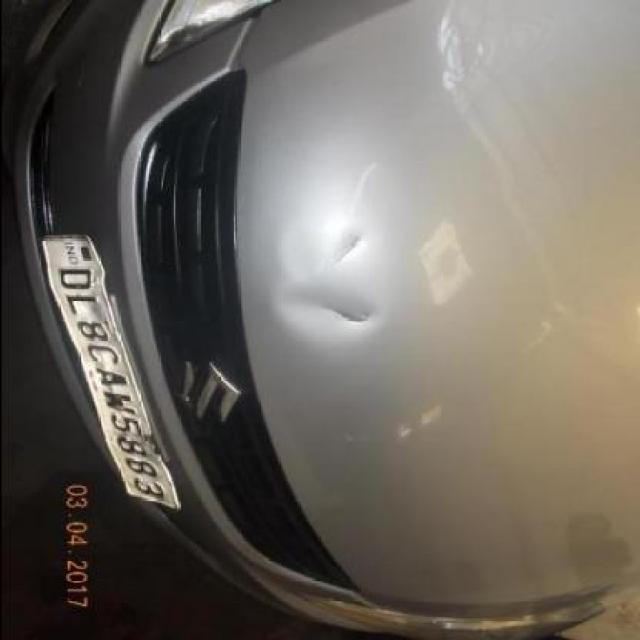damage: (285, 286, 379, 342), (294, 232, 373, 273)
